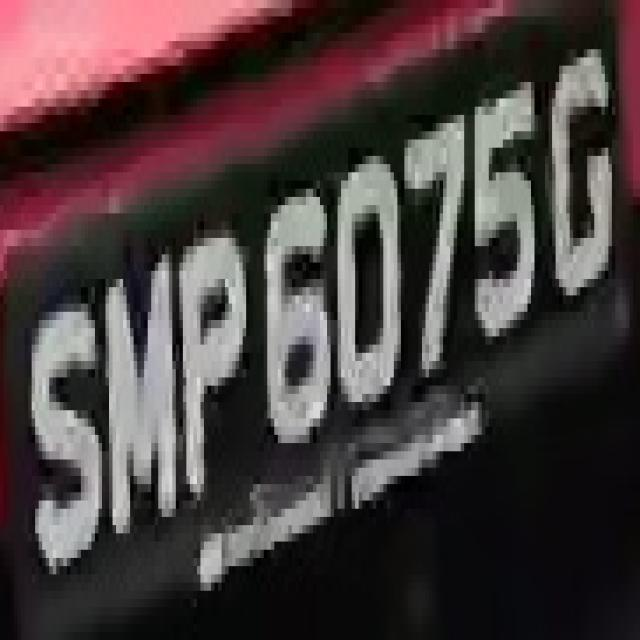0: (330, 148, 415, 435)
5: (461, 66, 538, 369)
6: (253, 164, 331, 451)
7: (398, 98, 478, 410)
G: (542, 32, 622, 304)
M: (95, 222, 183, 542)
P: (172, 222, 250, 534)
S: (14, 279, 99, 583)
